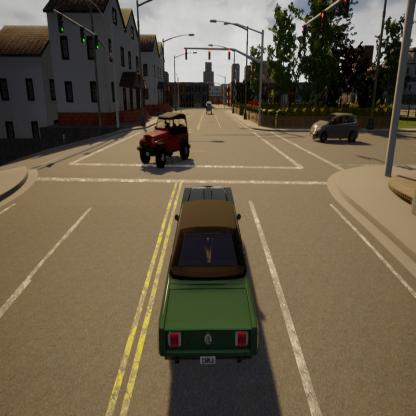Cars: (157, 183, 261, 372), (136, 113, 193, 172), (309, 110, 362, 146), (203, 99, 214, 116)
